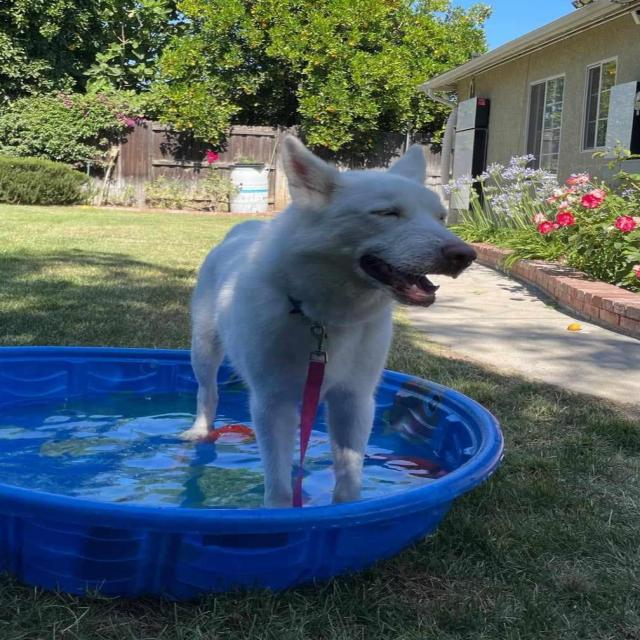siberian_husky_dog: (262, 129, 492, 318)
